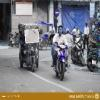motorcycles: (55, 42, 68, 80), (72, 42, 87, 68), (89, 38, 98, 70)
